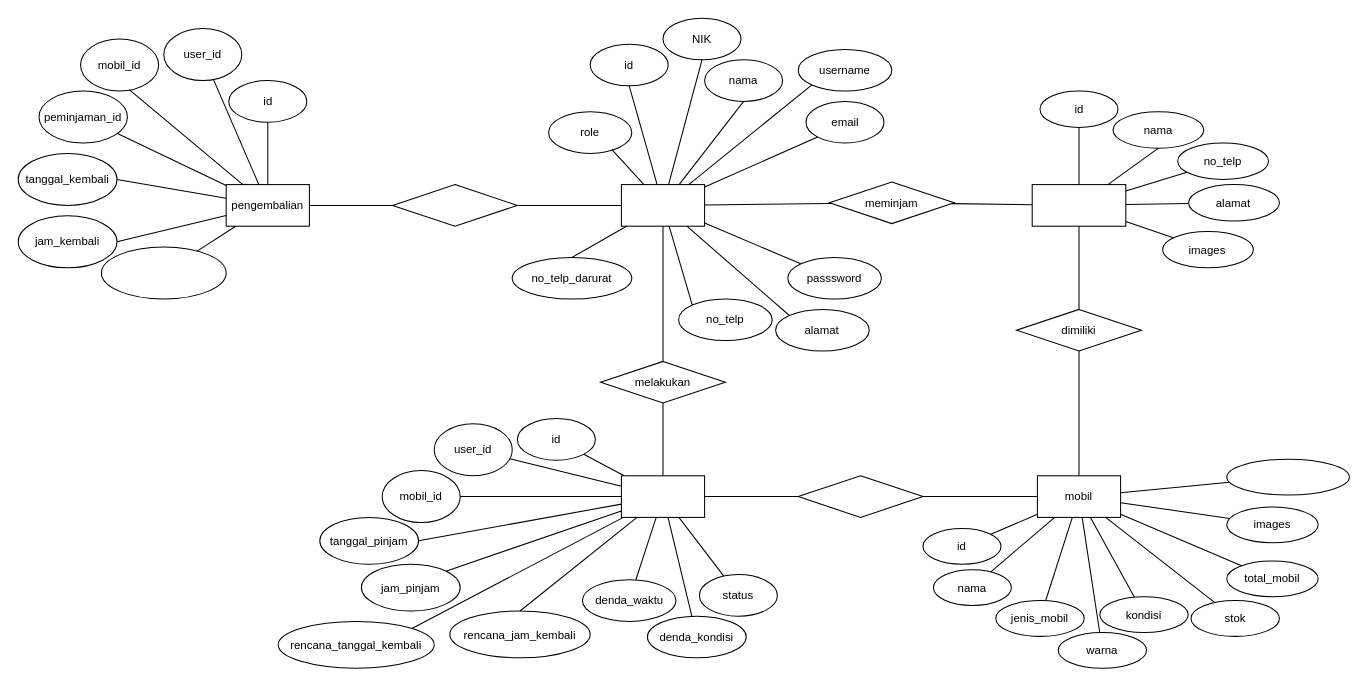
This 1368x686 diagram has some shape labels left out. The shapes that lost their labels are listed below. From the top down, each one's box as (x1, y1, x2, y2) in pixels, then its label:
(392, 184, 517, 226): mengembalikan
(620, 184, 705, 226): users
(1031, 184, 1126, 226): tempat_rental
(100, 246, 226, 299): bukti_pengembalian
(620, 475, 705, 517): peminjaman
(797, 475, 923, 517): dipinjam
(1226, 458, 1349, 495): tempat_rental_id
